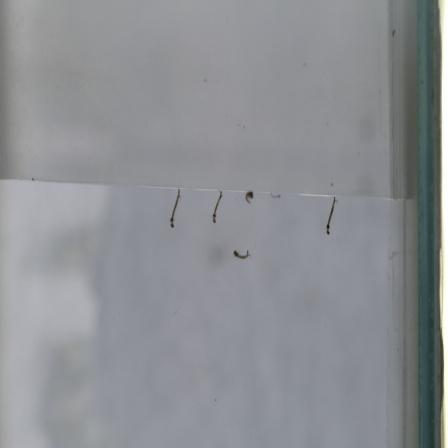Jentik-Nyamuk: (322, 191, 339, 238), (166, 187, 183, 231), (208, 188, 225, 228), (230, 243, 252, 263), (241, 188, 258, 208)
